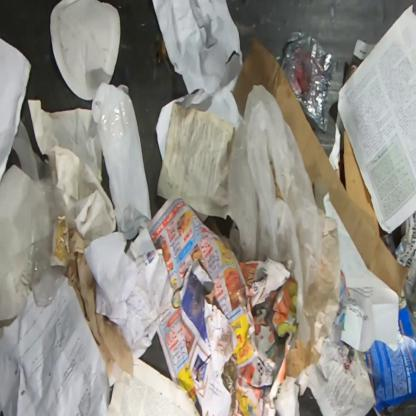cardboard: (232, 38, 409, 295), (343, 129, 379, 236)
rigid_plastic: (17, 178, 71, 309)
soft_plastic: (229, 83, 321, 345), (281, 31, 338, 132)
